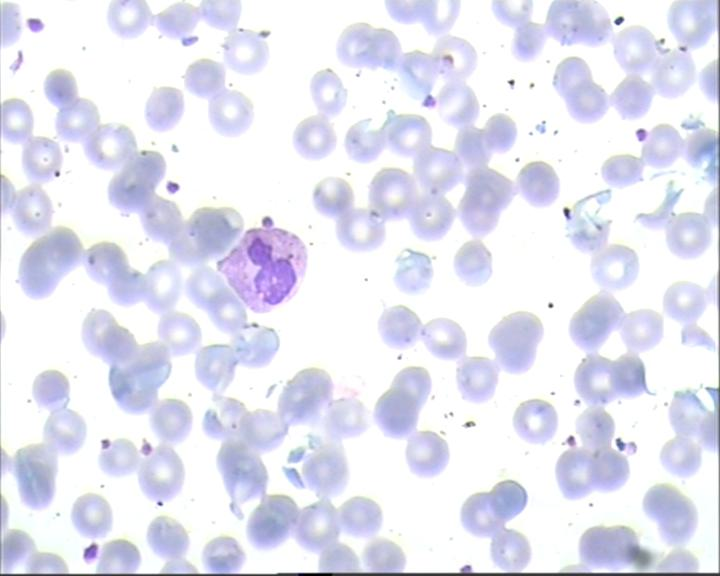neut: (212, 222, 313, 318)
